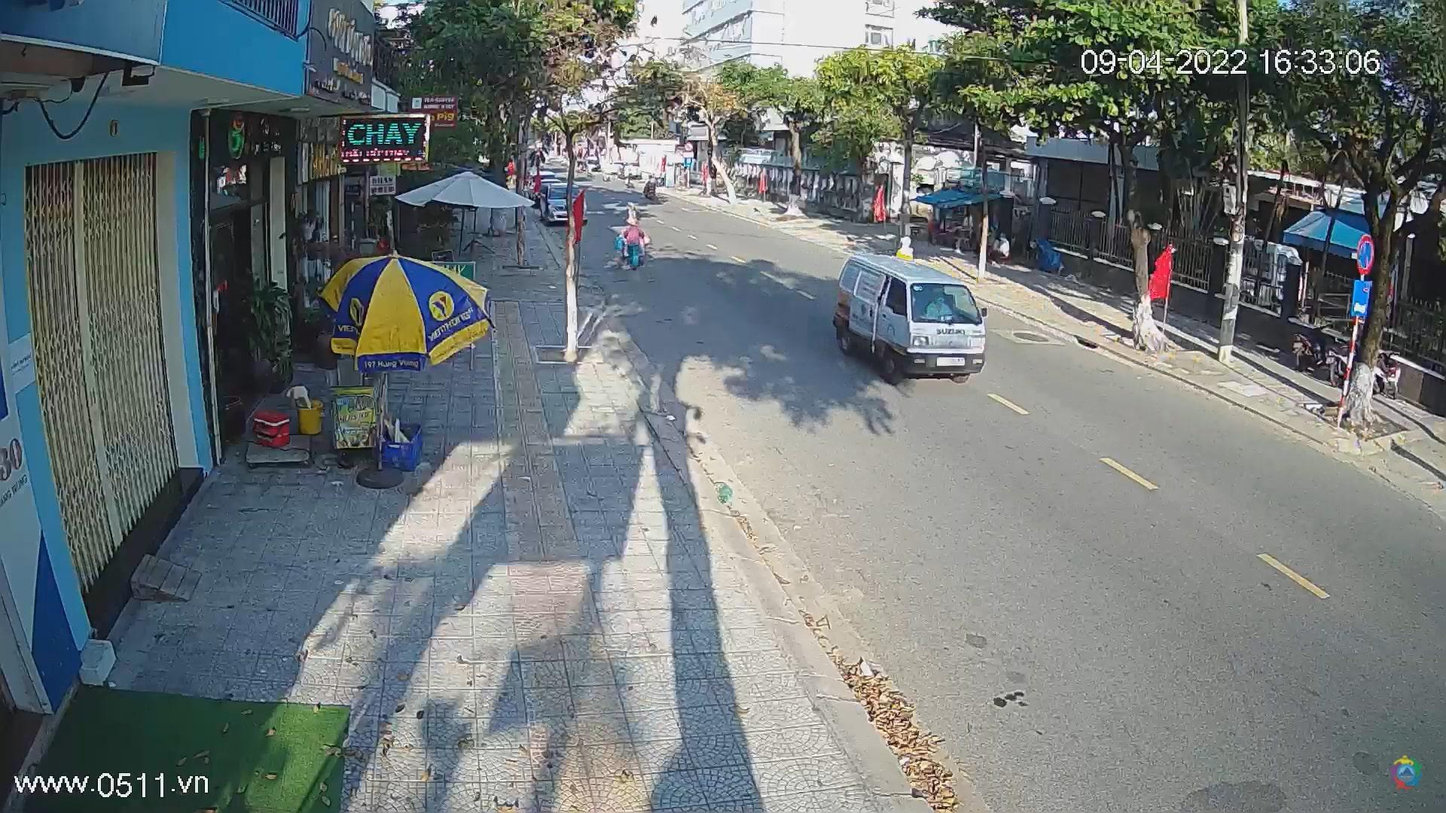car: (831, 252, 987, 385)
